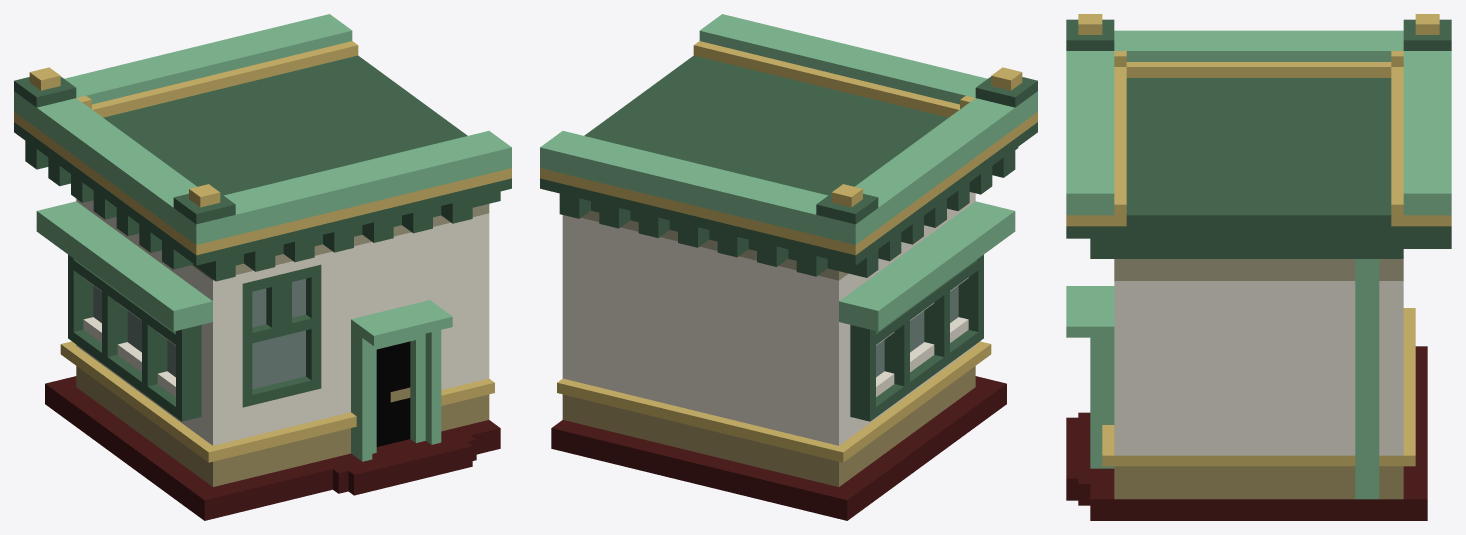
File: tile_1_right.obj
3 views of the same model, side by side, from view 1: azimuth 30°, elevation 25°; view 2: azimuth 150°, elevation 25°; view 3: azimuth 270°, elevation 25° (orthographic). The views are drawn at different scales.
Size of the model in its own units: 3.2 by 3.2 by 3.2.
